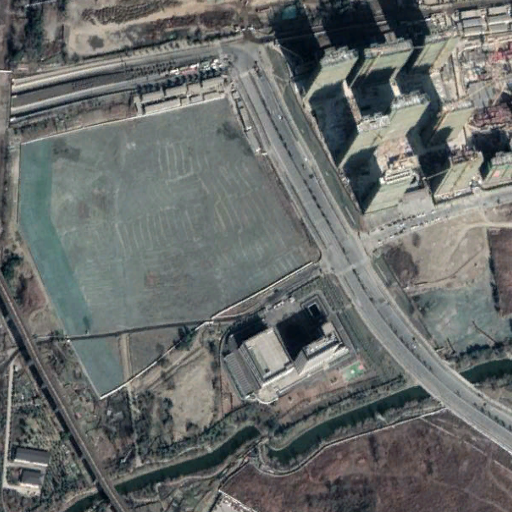cw: (18, 95, 322, 398), (400, 265, 512, 357)
